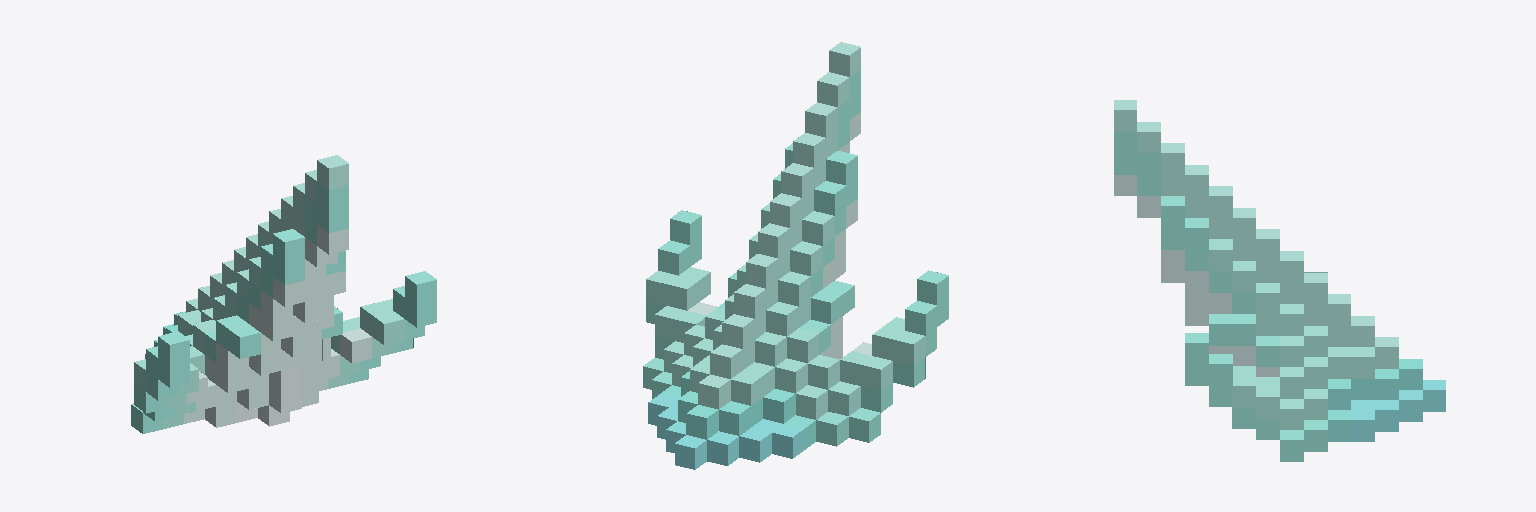
The picture shows the model from 3 angles: view 1: azimuth 30°, elevation 25°; view 2: azimuth 150°, elevation 25°; view 3: azimuth 270°, elevation 25°; orthographic projection.
Parts seen in each view (by area): view 1: FrostbiteProjectile; view 2: FrostbiteProjectile; view 3: FrostbiteProjectile.
Boxes of the visible parts, x1,y1,x2,y2 form: FrostbiteProjectile: [131, 155, 436, 433]; FrostbiteProjectile: [643, 42, 948, 469]; FrostbiteProjectile: [1114, 100, 1445, 461].
Size of the model in its own units: 13 by 14 by 14.
Materials: 1 (1 with a texture image).